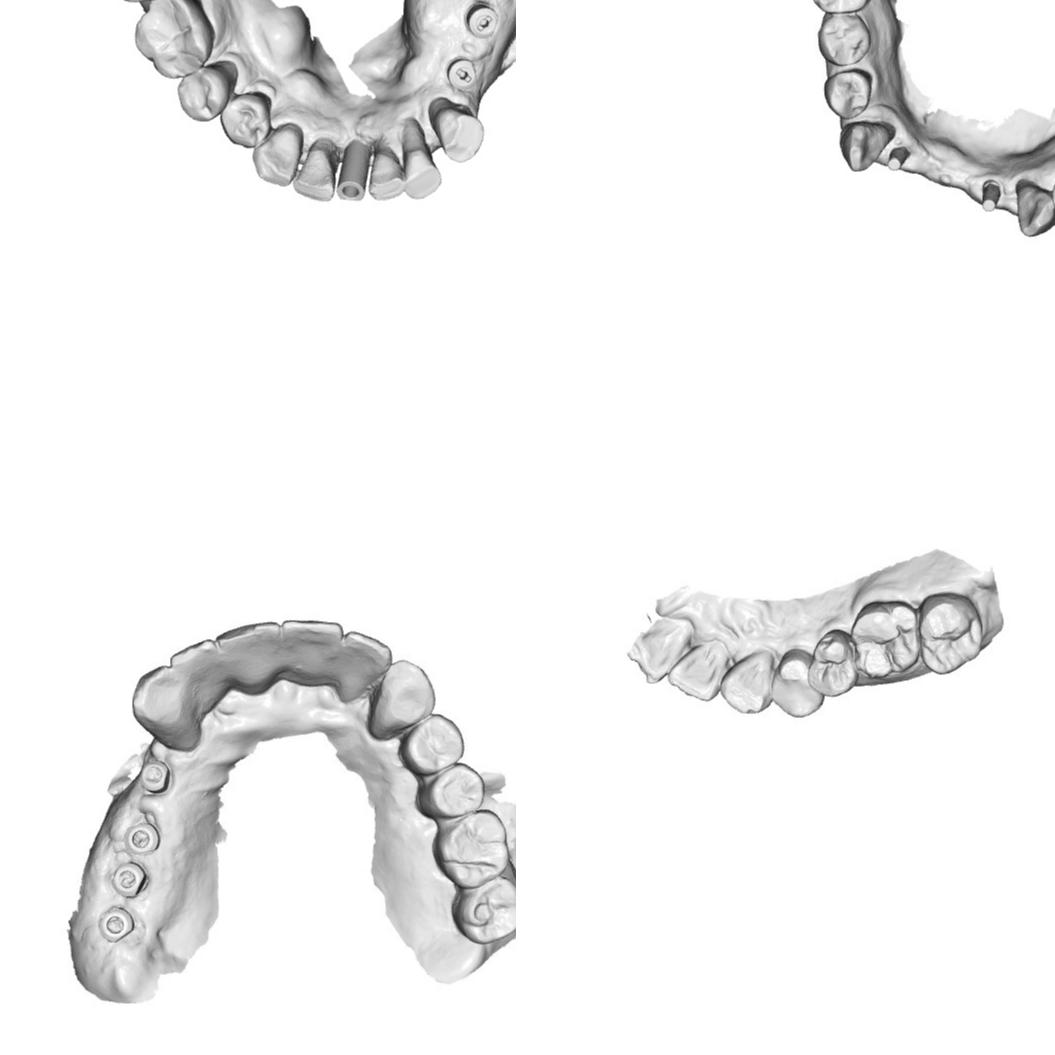abutment: (974, 172, 1002, 216), (883, 143, 913, 179)
canine: (360, 658, 437, 743), (131, 664, 200, 750), (721, 649, 774, 716), (251, 124, 301, 188), (432, 106, 486, 165), (838, 118, 892, 174), (1014, 177, 1055, 234)
implant: (335, 143, 369, 206), (96, 906, 136, 945), (108, 860, 148, 898), (137, 758, 173, 796), (122, 821, 162, 855)
implant_minus: (442, 54, 480, 91), (462, 2, 498, 38)
incisor: (215, 620, 281, 694), (620, 618, 686, 685), (167, 637, 228, 709), (278, 618, 346, 681), (336, 629, 392, 691), (665, 640, 720, 701), (402, 145, 444, 201), (291, 148, 334, 202), (368, 150, 405, 203)
molar: (133, 0, 218, 80), (432, 808, 511, 890), (848, 598, 921, 683), (918, 590, 986, 677), (449, 875, 516, 946), (810, 0, 876, 18)
premolar: (400, 713, 468, 778), (418, 764, 492, 818), (806, 626, 861, 698), (771, 652, 824, 722), (174, 63, 232, 125), (814, 11, 872, 70), (218, 91, 275, 149), (824, 64, 878, 122)
